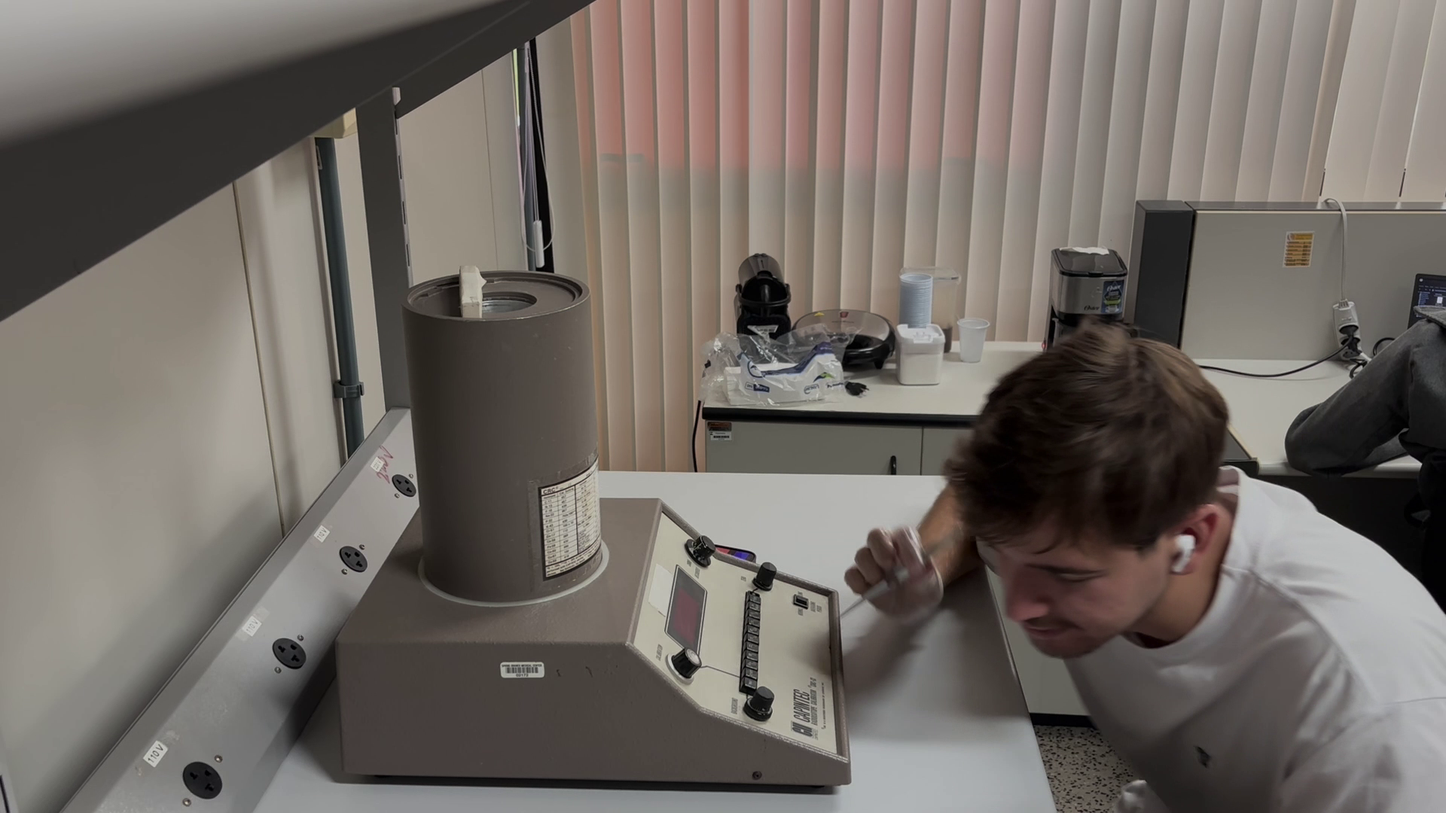Ativimetro: (398, 267, 609, 606)
Com_Luva: (843, 524, 947, 628)
